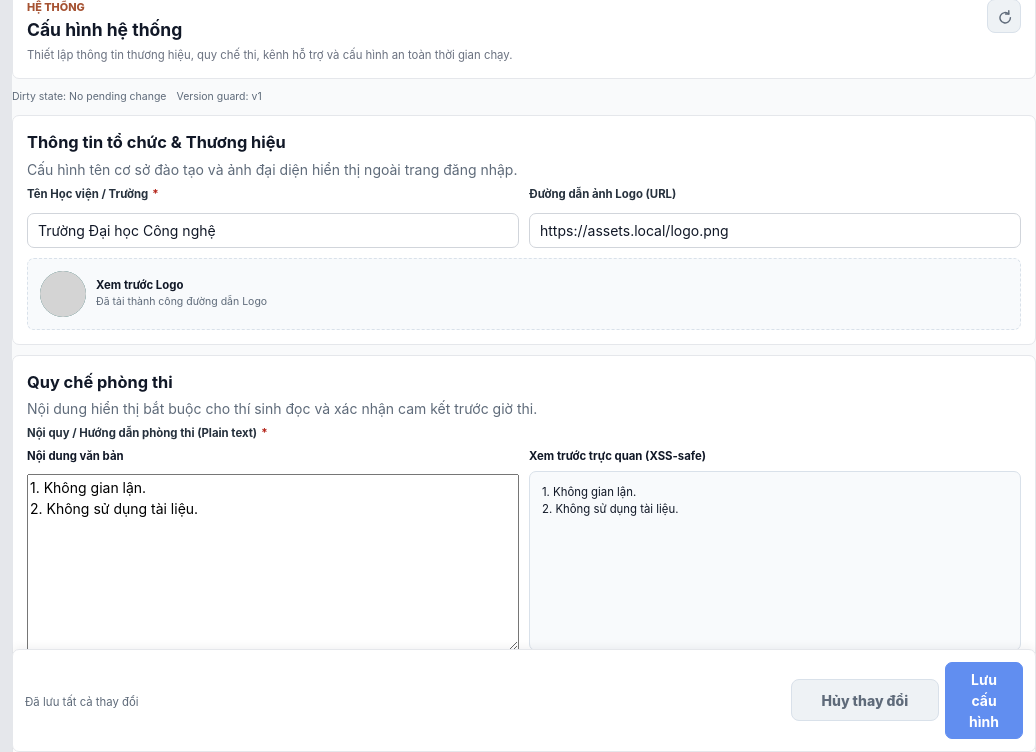
SettingsPage UI and validations › submits valid changes and displays success message
Replace the text in the field labelled "Tên Học viện / Trường *" with "Đại học Quốc gia". click: (273, 230)
box: [27, 213, 519, 248]
(page scrolled)
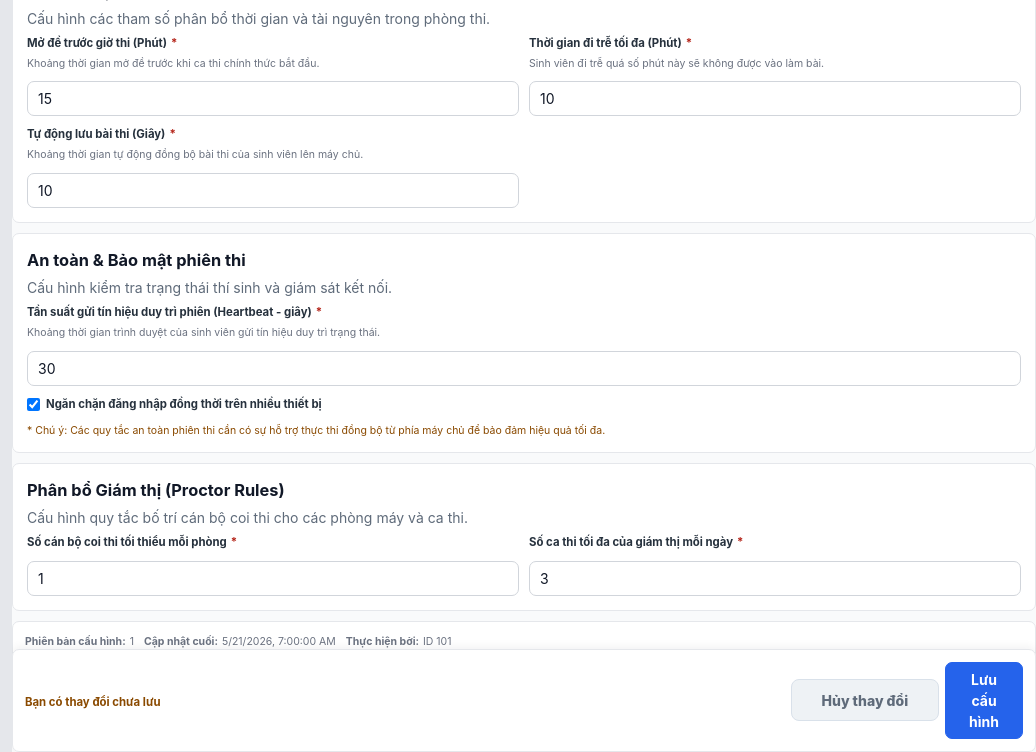
Replace the text in the number field labelled "Tần suất gửi tín hiệu duy trì phiên (Heartbeat - giây) *" with "45". click: (524, 368)
box: [27, 351, 1021, 386]
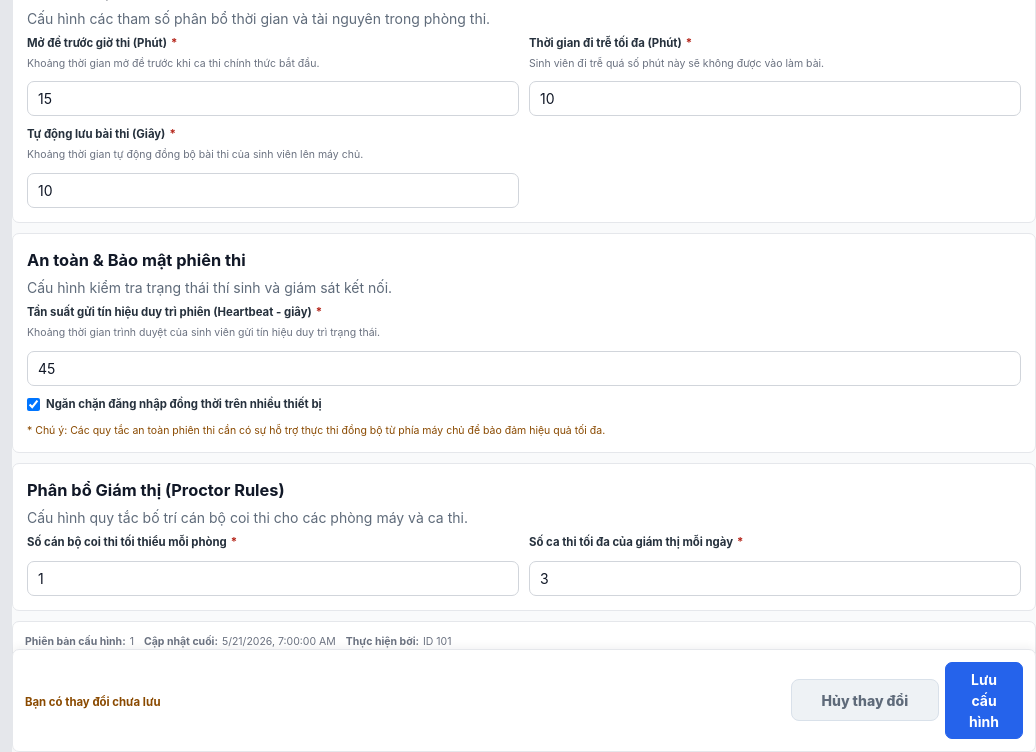
Click the button "Lưu cấu hình". click: (984, 700)
box: [945, 662, 1023, 739]
(page scrolled)
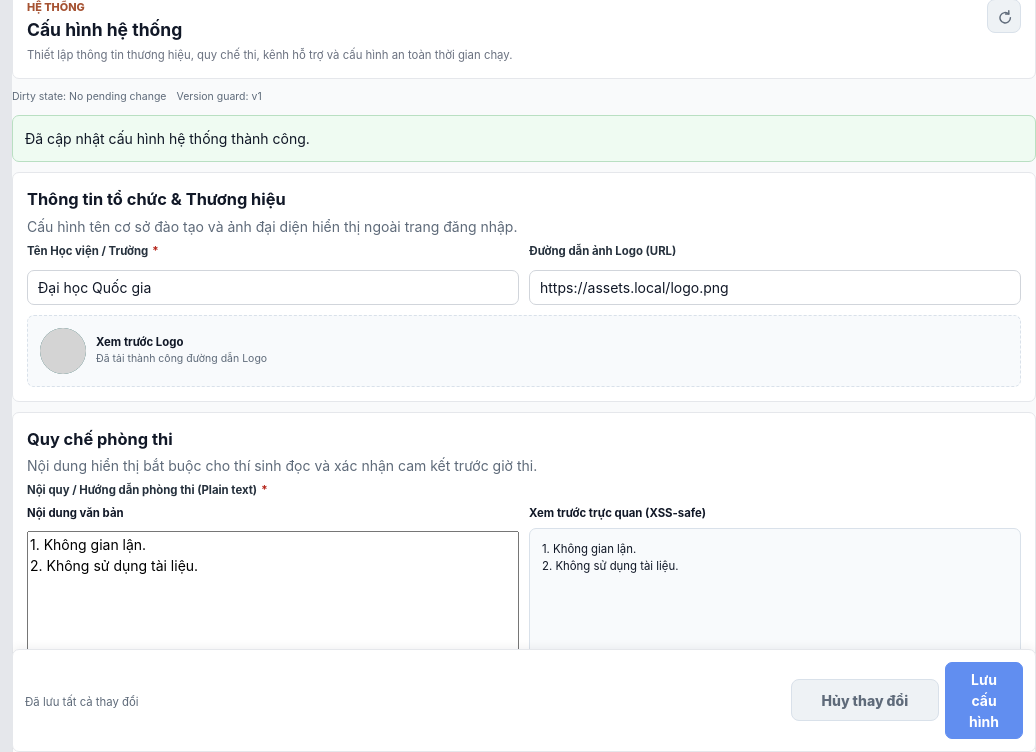
Expected: the text "Đã cập nhật cấu hình hệ thống thành công." is shown, [12, 115, 1035, 162]
